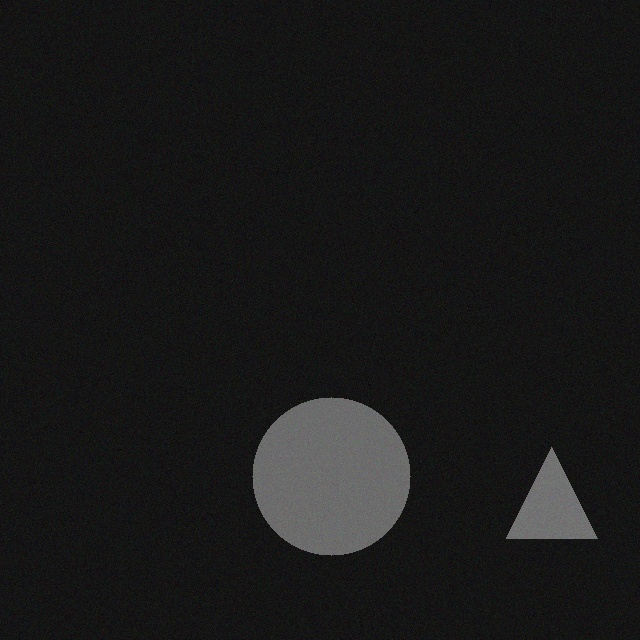circle: (249, 391, 407, 549)
triangle: (503, 441, 594, 532)
